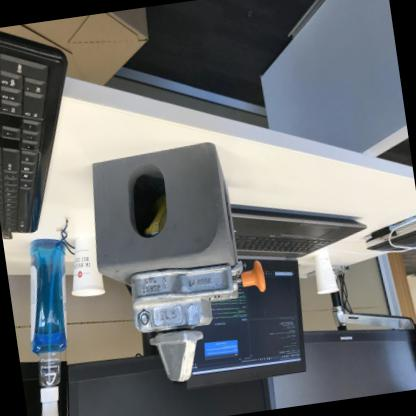CornerCasting: (91, 141, 242, 300)
Twistlock: (121, 254, 279, 390)
